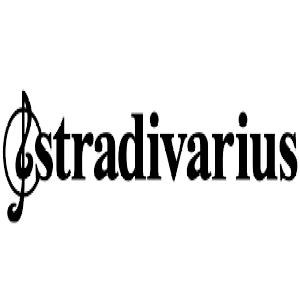stradivarius: (2, 90, 300, 224)
